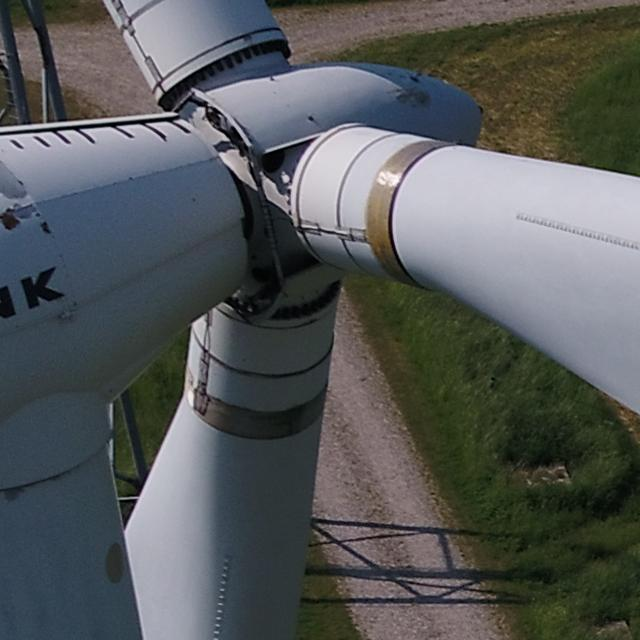damage: (512, 206, 637, 256), (208, 550, 233, 638), (391, 86, 434, 113), (2, 205, 25, 232), (36, 217, 52, 232)
